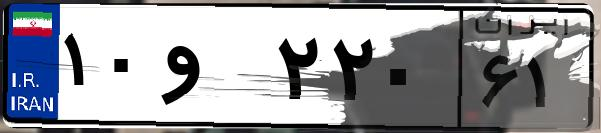0: (385, 28, 445, 110), (110, 28, 158, 98)
1: (57, 26, 110, 100), (525, 38, 570, 115)
2: (270, 28, 330, 110), (330, 28, 385, 110)
6: (475, 38, 525, 113)
و: (158, 20, 270, 120)
